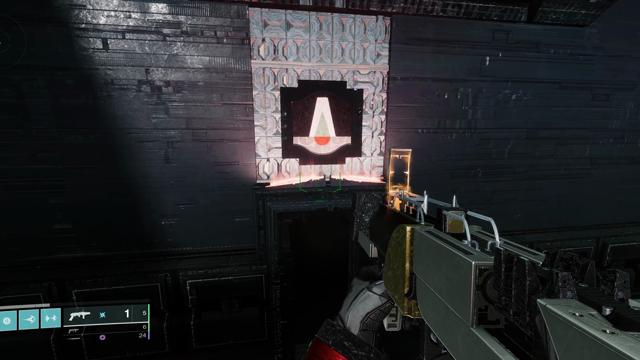enter: (292, 91, 352, 155)
